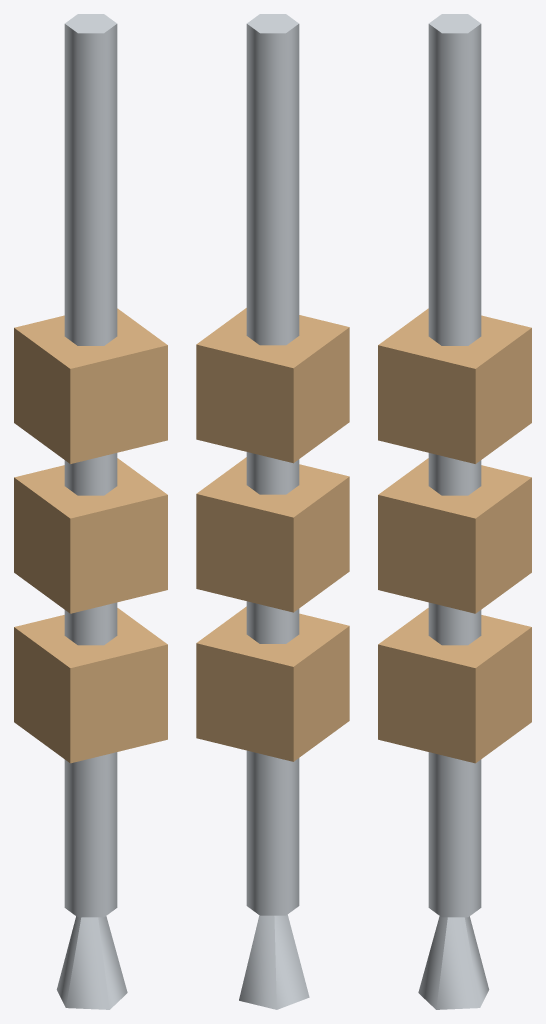
File: donerspit.glb
3 renders of one model, left to right at view 1: azimuth 30°, elevation 25°; view 2: azimuth 150°, elevation 25°; view 3: azimuth 330°, elevation 25°, orthographic.
Size of the model in its own units: 0.15 by 1.43 by 0.15.
